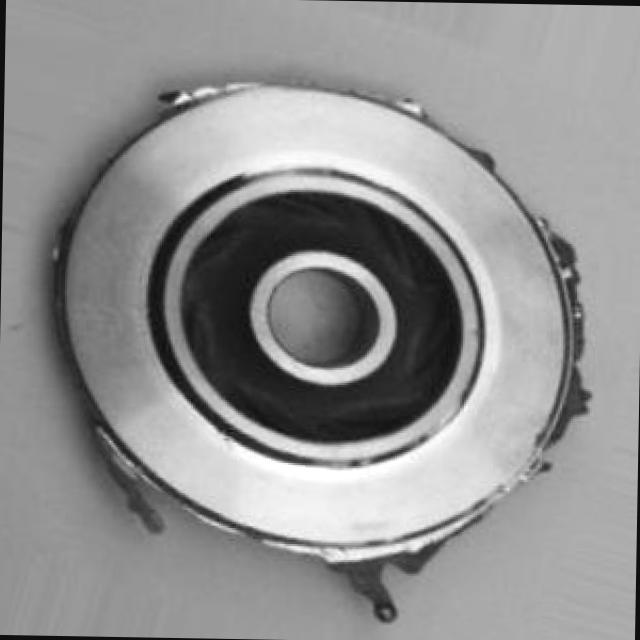Defect: (540, 220, 588, 298)
